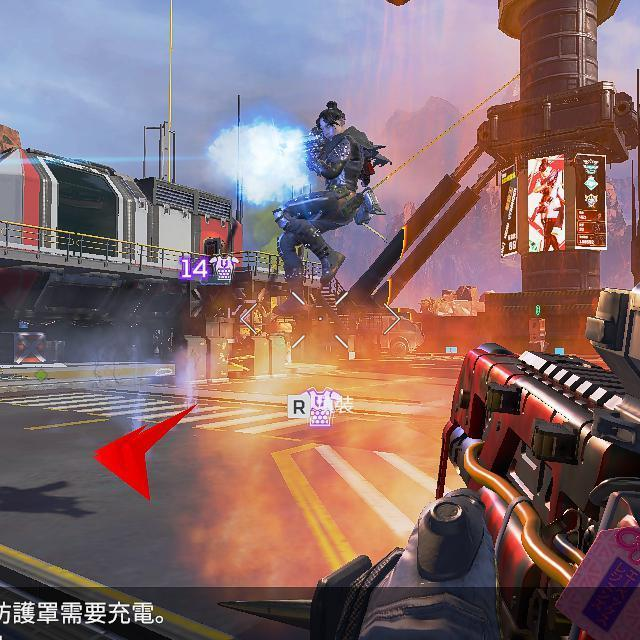avatar: (272, 100, 393, 316)
